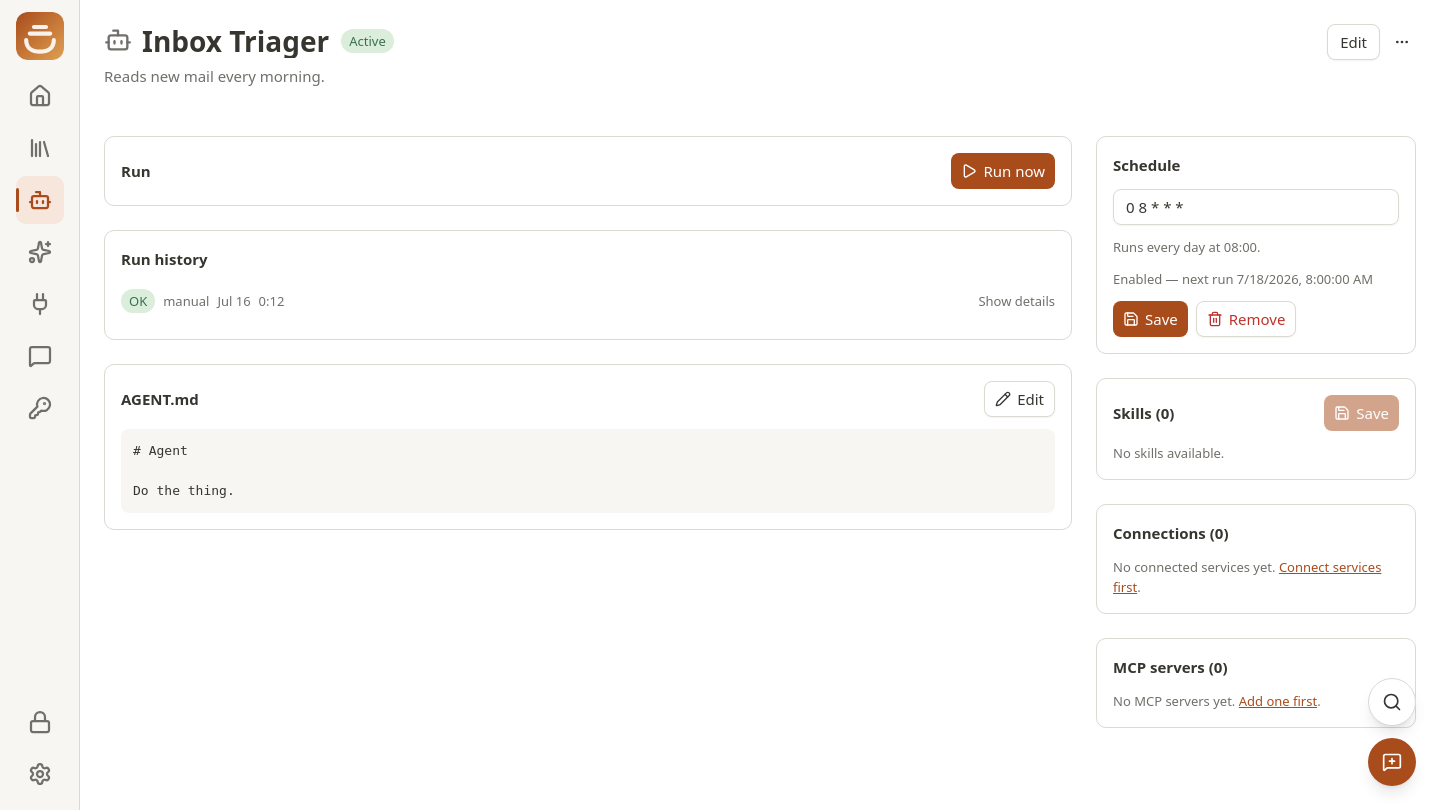
Test case: AGENT.md Save is disabled until the content actually changes
Click the button "Edit". click: [1020, 399]
box: left=984, top=381, right=1055, bottom=417
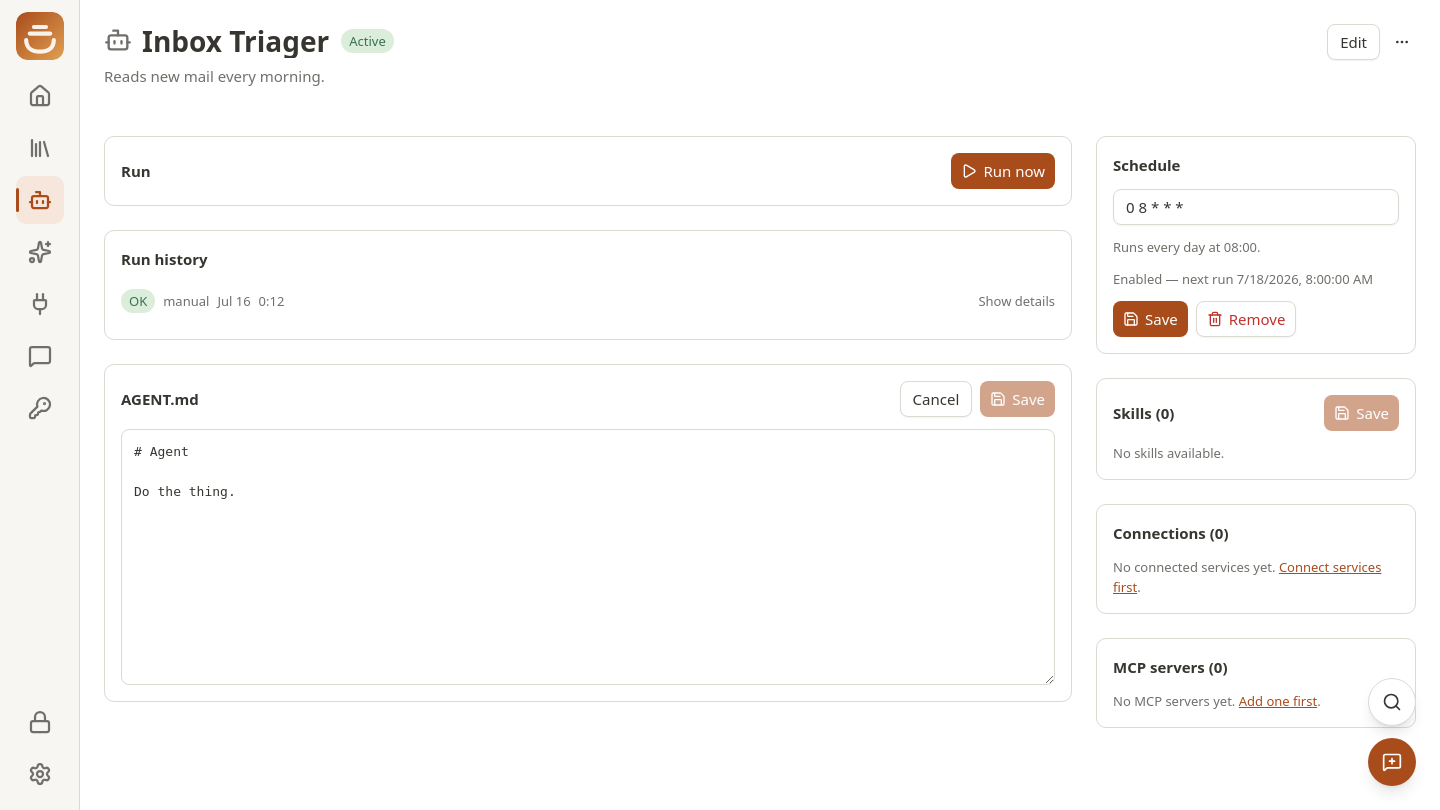
Expected: the button with aria-label "save agent.md" is disabled, left=980, top=381, right=1055, bottom=417
Type "!" into the text box named "AGENT.md". click: [588, 557]
box: left=121, top=429, right=1055, bottom=685
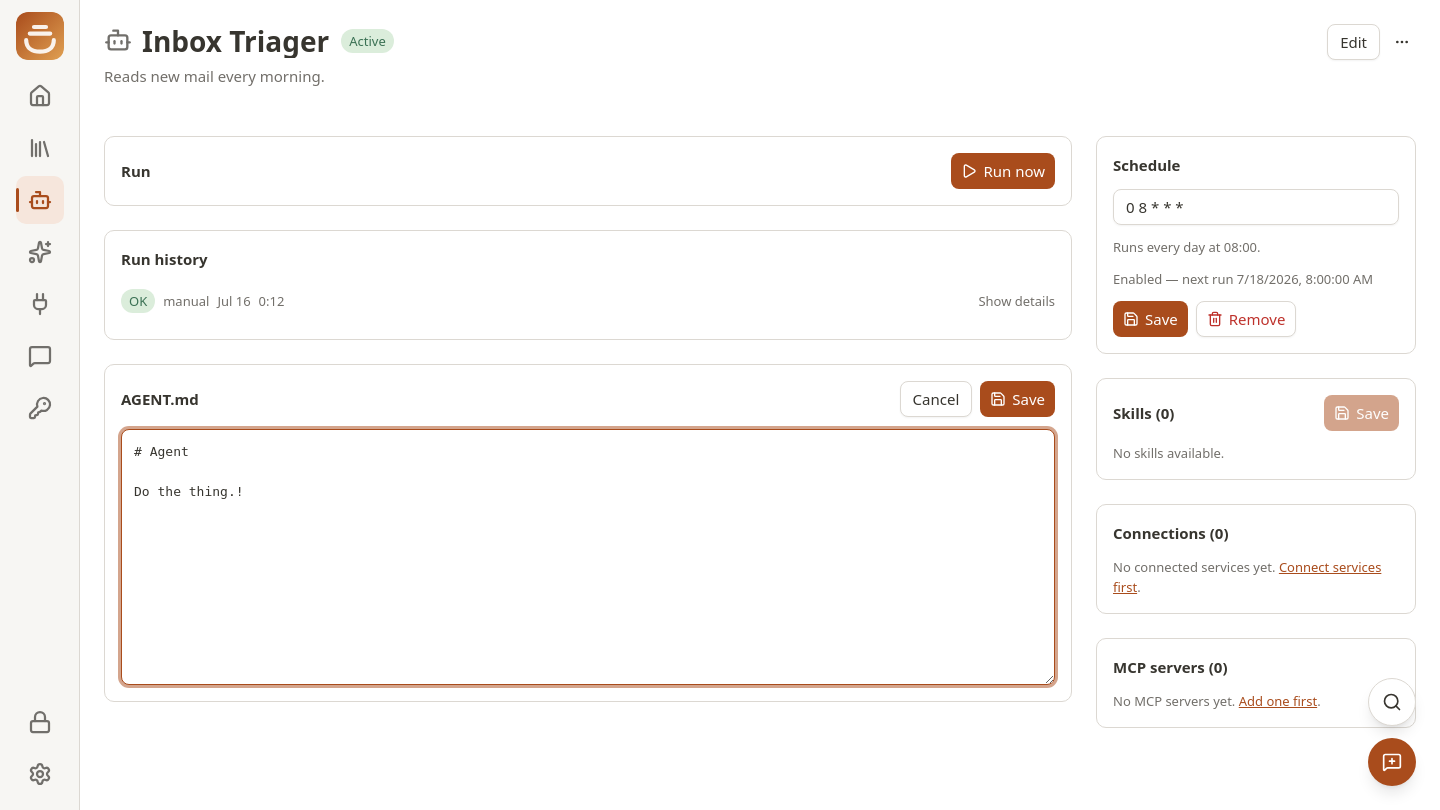
Expected: the button with aria-label "save agent.md" is enabled, left=980, top=381, right=1055, bottom=417
